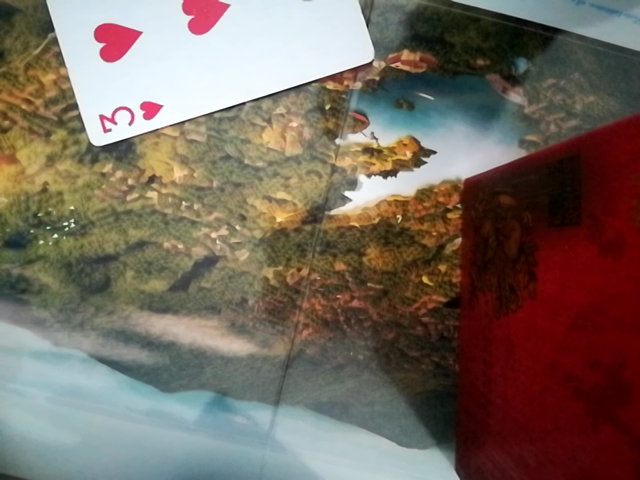hx 3: (18, 0, 374, 148)
